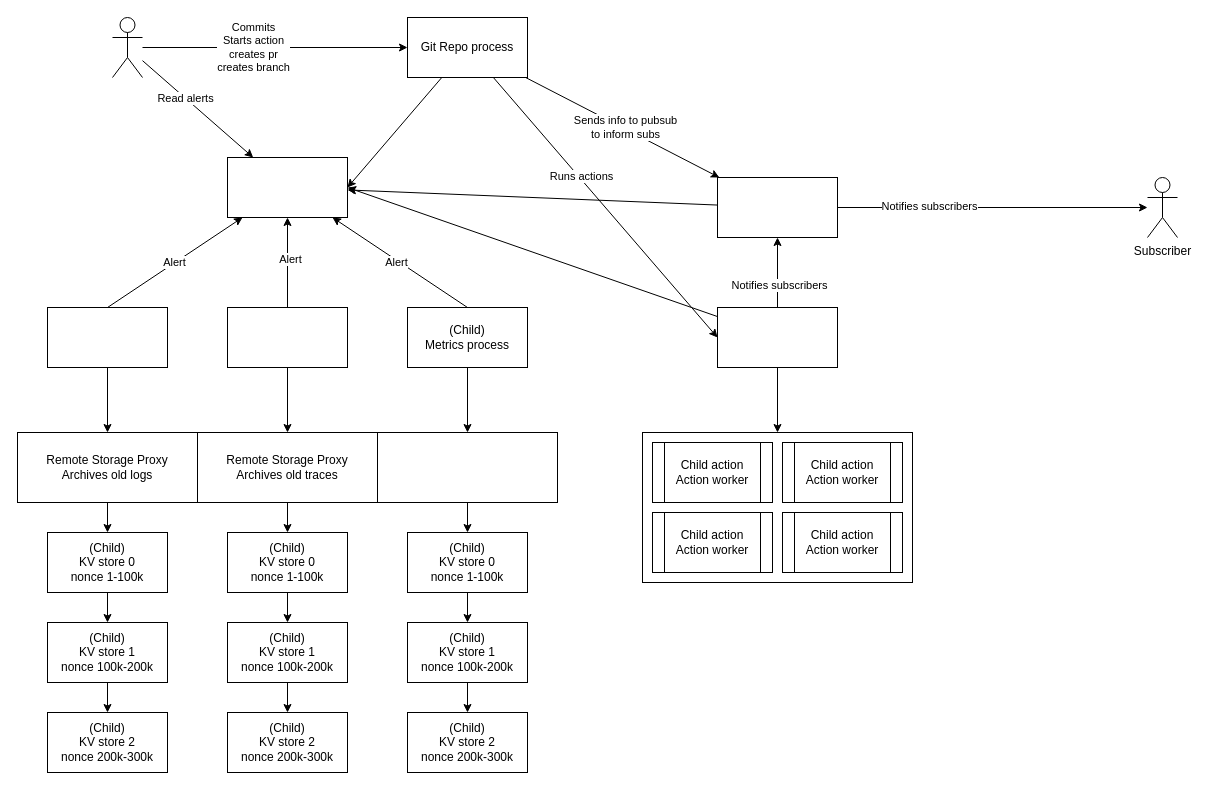
This 1208x790 diagram has some shape labels left out. The shapes that lost their labels are listed below. From the top down, each one's box as (x1, y1, x2, y2) in pixels, then its label:
(112, 16, 142, 78): Author
(226, 156, 348, 218): Observability Manager
(716, 176, 838, 238): (Child) Pub sub process
(46, 306, 168, 368): (Child) Logs process
(226, 306, 348, 368): (Child) Tracing process
(716, 306, 838, 368): (Child) Actions Process
(376, 432, 558, 502): Remote Storage Proxy Archives old metrics
